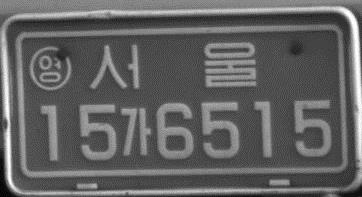1: (35, 102, 64, 166), (250, 98, 277, 161)
5: (198, 100, 241, 160), (291, 97, 334, 157), (76, 102, 118, 161)
6: (156, 101, 195, 160)
가: (117, 106, 154, 159)
서울_D: (87, 39, 259, 92)
영: (29, 44, 72, 92)
